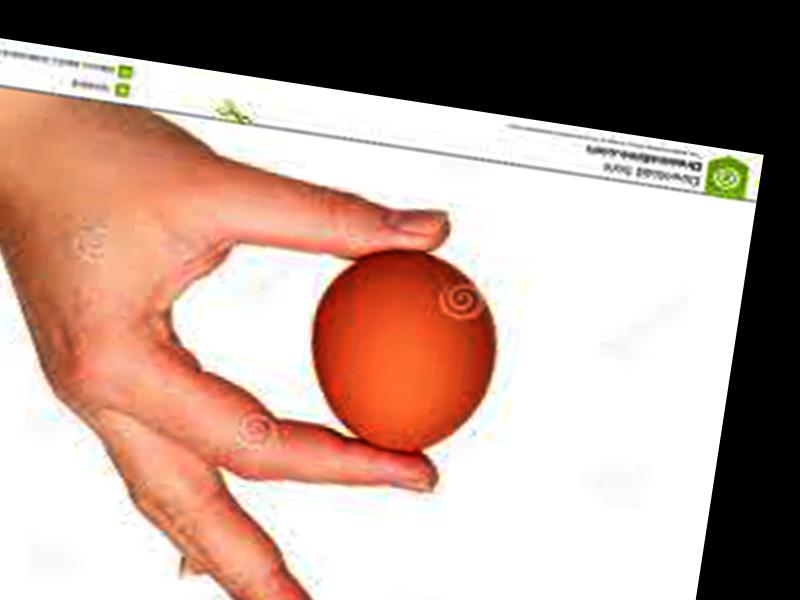Eggs: (293, 235, 511, 465)
